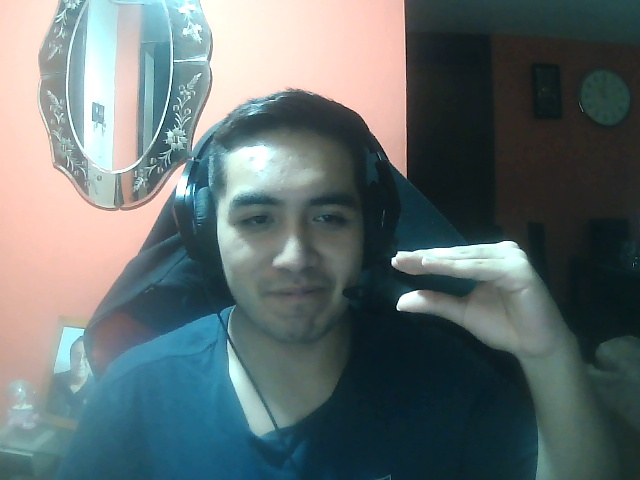no: (388, 237, 574, 359)
